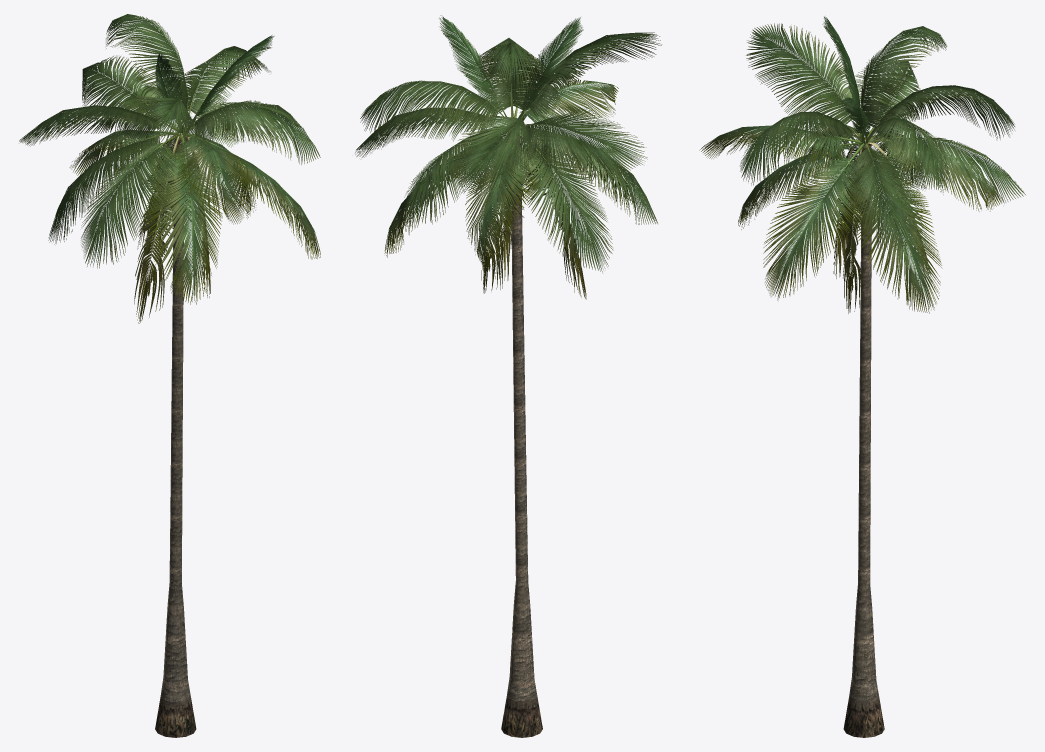
The model's file is MK4_CocoPalm3.DAE.
The picture shows the model from 3 angles, left to right: view 1: azimuth 30°, elevation 25°; view 2: azimuth 150°, elevation 25°; view 3: azimuth 270°, elevation 25°; orthographic projection.
Visible parts, largest first — view 1: MK4_CocoPalm3; view 2: MK4_CocoPalm3; view 3: MK4_CocoPalm3.
Part boxes in pixels (left/top/right/bottom): MK4_CocoPalm3: left=19, top=14, right=320, bottom=737; MK4_CocoPalm3: left=355, top=15, right=661, bottom=737; MK4_CocoPalm3: left=699, top=16, right=1025, bottom=737.
Size of what is drawn, in the model's own units: 18.22 by 18.3 by 42.09.
